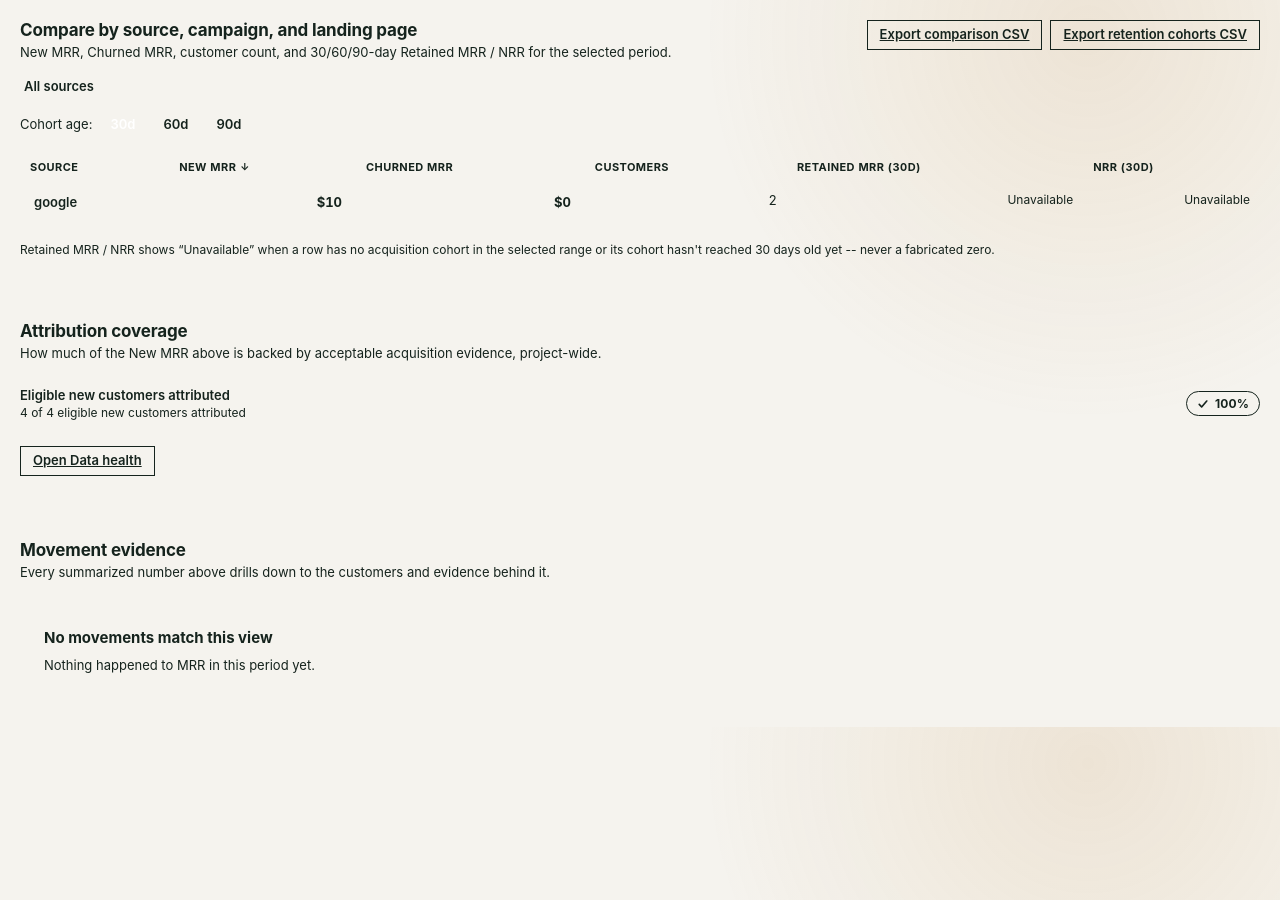
SourcesClient › drills into the no-campaign-captured bucket using an explicit boolean, not a sentinel string
What coordinates should you click on to do the following:
click the button "google"
I would click on:
 (56, 202)
Its box is x1=30 y1=192 x2=81 y2=212.
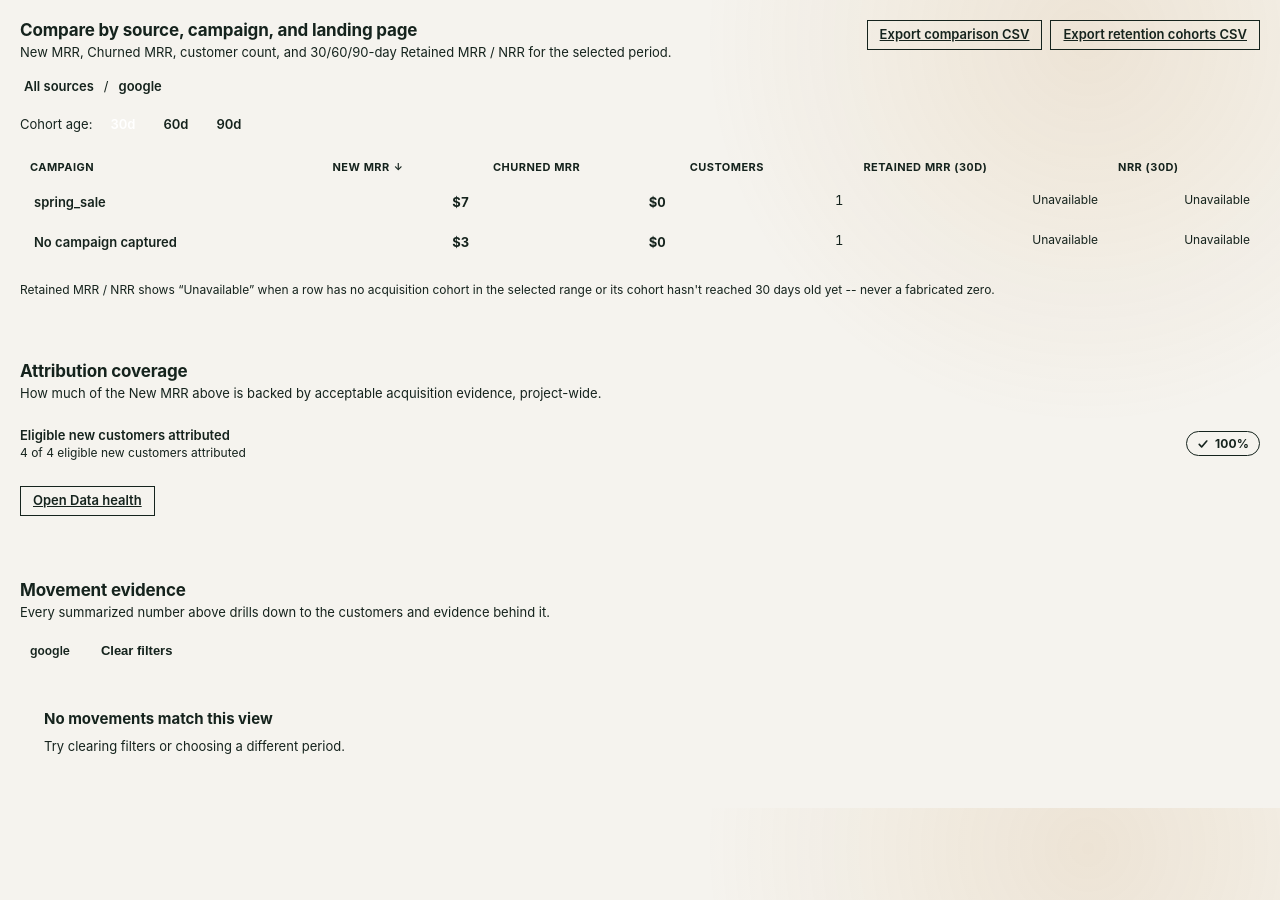
Check: the button "spring_sale" is shown, box x1=30 y1=192 x2=110 y2=212
What coordinates should you click on to do the following:
click the button "No campaign captured"
I would click on:
 (105, 242)
Its box is x1=30 y1=232 x2=181 y2=252.
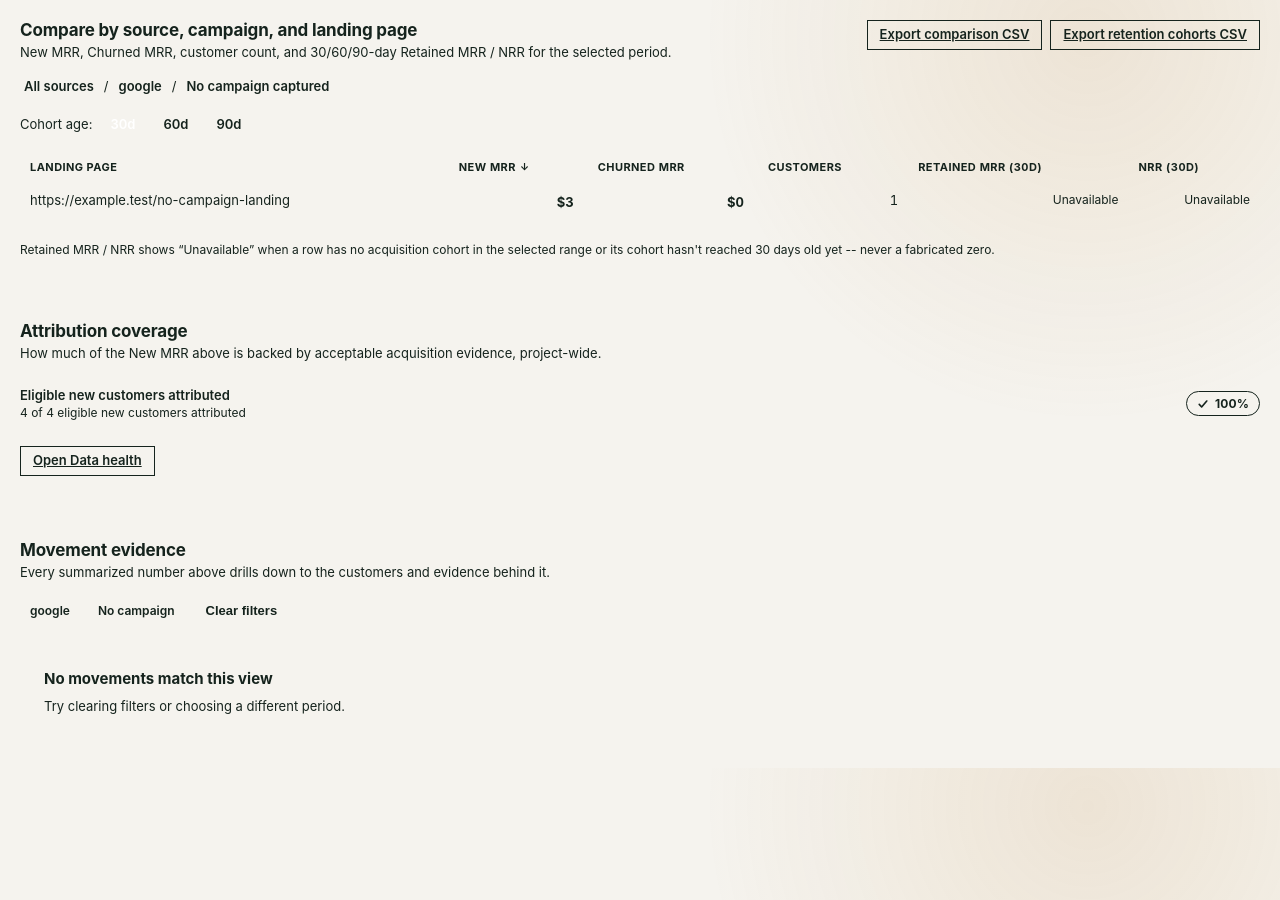
Check: the text "https://example.test/no-campaign-landing" is shown, box x1=20 y1=182 x2=449 y2=222
Check: the text "No campaign captured" is shown, box x1=182 y1=76 x2=333 y2=96
